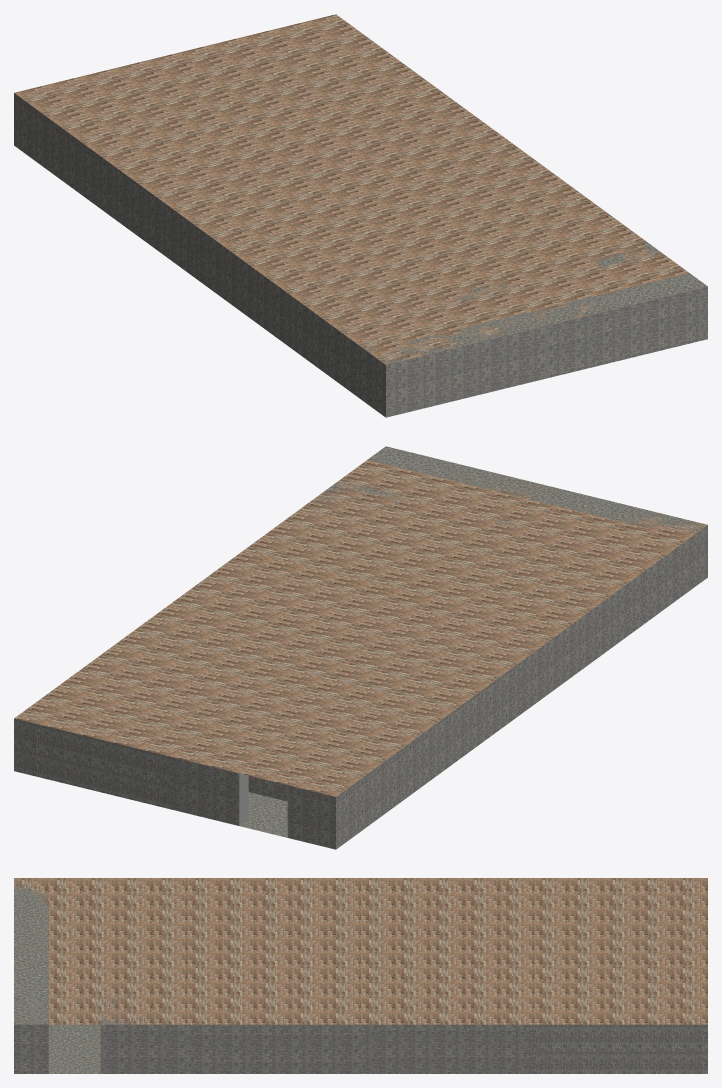
The model's file is TileMaze7Final.fbx.
3 renders of one model, top to bottom at view 1: azimuth 30°, elevation 25°; view 2: azimuth 150°, elevation 25°; view 3: azimuth 270°, elevation 25°, orthographic. The views are drawn at different scales.
Parts seen in each view (by area): view 1: Ceiling, Building; view 2: Ceiling, Building; view 3: Ceiling, Building.
Part boxes in pixels (box(x1,y1,x2,y2)): Ceiling: box(14, 14, 688, 364); Building: box(14, 93, 707, 417); Ceiling: box(14, 460, 706, 796); Building: box(14, 446, 707, 849); Ceiling: box(14, 878, 707, 1024); Building: box(14, 878, 707, 1073).
Bounding box in the file's own units: 3200 × 500 × 6400.
